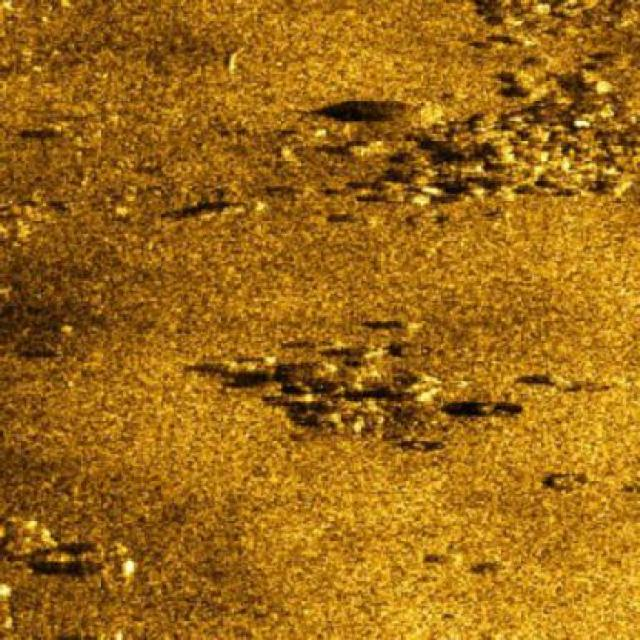bedrock group: (281, 0, 639, 223)
